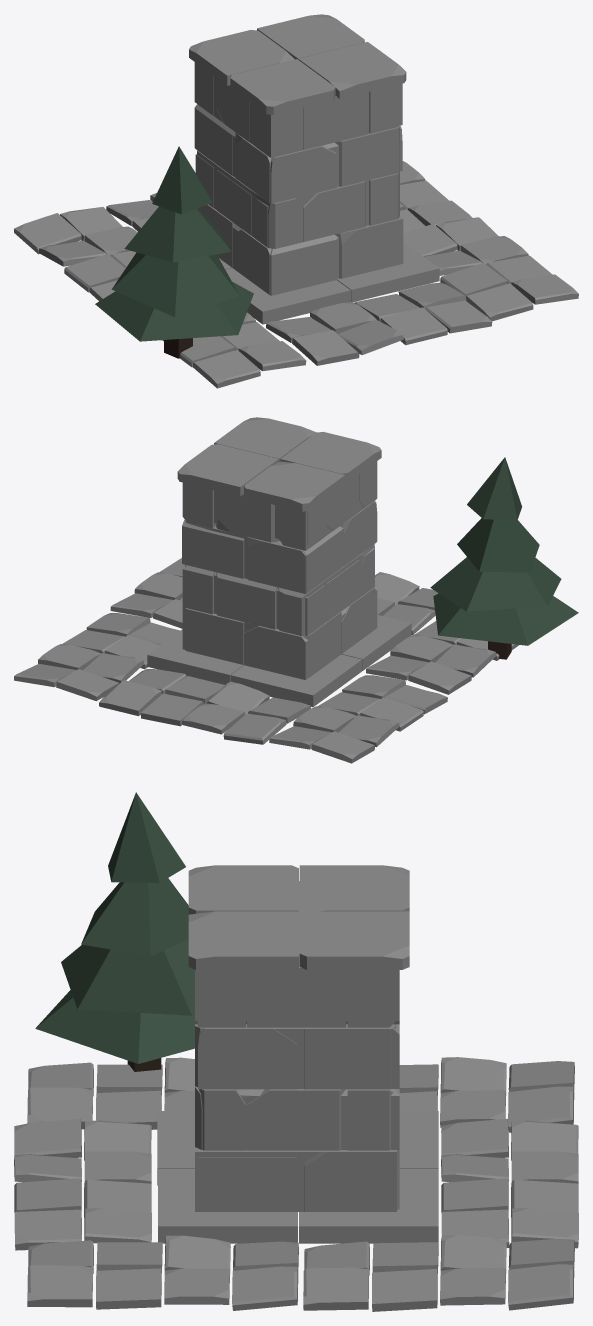
File: Ruins02.fbx
3 renders of one model, top to bottom at view 1: azimuth 30°, elevation 25°; view 2: azimuth 150°, elevation 25°; view 3: azimuth 270°, elevation 25°, orthographic. The views are drawn at different scales.
Parts seen in each view (by area): view 1: Ruins1; view 2: Ruins1; view 3: Ruins1.
Part boxes in pixels (x1,y1,x2,y2): Ruins1: (14, 14, 578, 388); Ruins1: (14, 417, 578, 763); Ruins1: (14, 792, 578, 1311).
Bounding box in the file's own units: 1.17 × 0.5702 × 1.02.
